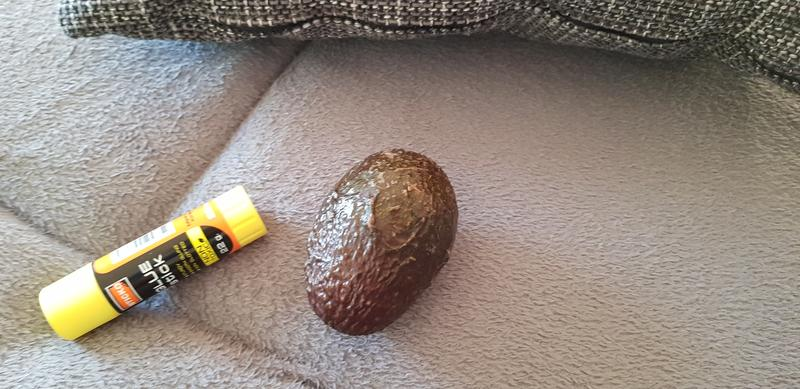Avocado: (300, 140, 465, 343)
Glue-Stick: (28, 182, 274, 350)
